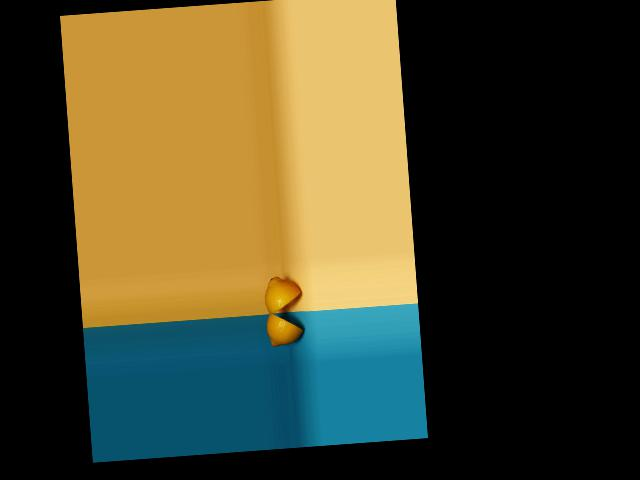lemon: (263, 309, 307, 351)
